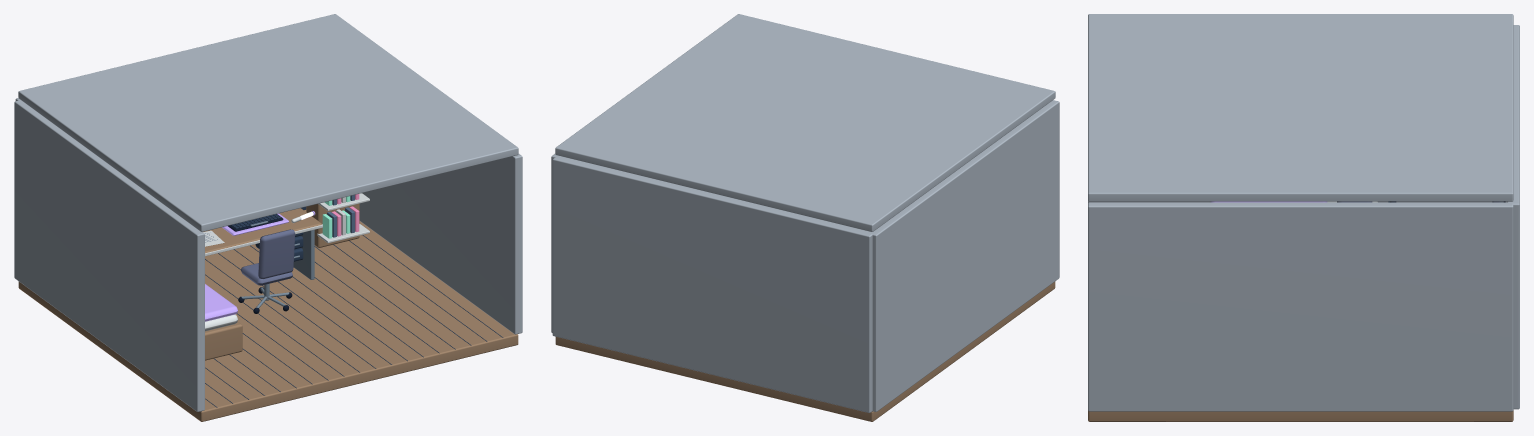
File: study.glb
3 renders of one model, left to right at view 1: azimuth 30°, elevation 25°; view 2: azimuth 150°, elevation 25°; view 3: azimuth 270°, elevation 25°, orthographic. The views are drawn at different scales.
Parts seen in each view (by area): view 1: Ceiling, Left wall, Floor, Right wall, Chair backrest, Desk top, Bed frame, Lavender duvet, Desk leg.001, Bookcase, Upholstered seat; view 2: Ceiling, Back wall, Left wall, Floor; view 3: Right wall, Ceiling, Floor, Back wall, Left wall.
Boxes of the visible parts, <box> form: Ceiling: <box>18,14,518,231</box>; Left wall: <box>14,100,204,411</box>; Floor: <box>18,210,518,421</box>; Right wall: <box>359,154,522,334</box>; Chair backrest: <box>258,229,295,278</box>; Desk top: <box>203,208,321,253</box>; Bed frame: <box>205,321,242,360</box>; Lavender duvet: <box>205,284,237,321</box>; Desk leg.001: <box>293,230,314,279</box>; Bookcase: <box>306,203,359,247</box>; Upholstered seat: <box>241,263,292,285</box>; Ceiling: <box>555,14,1055,231</box>; Back wall: <box>552,155,872,412</box>; Left wall: <box>871,100,1059,411</box>; Floor: <box>555,281,1055,421</box>; Right wall: <box>1088,202,1513,411</box>; Ceiling: <box>1088,14,1513,201</box>; Floor: <box>1088,410,1513,421</box>; Back wall: <box>1507,25,1519,409</box>; Left wall: <box>1088,201,1506,203</box>.
Bounding box in the file's own units: 6.15 × 3.57 × 6.09.
